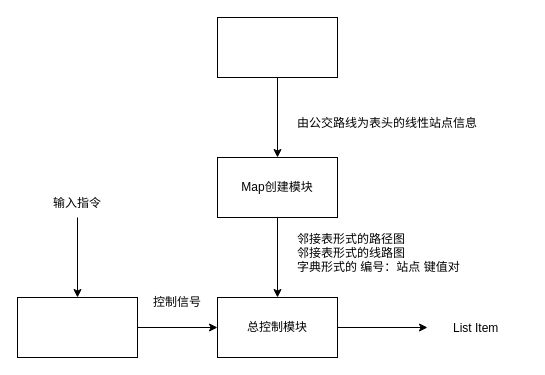
Image size: 545x375. Some labels were removed from this diagram. Each missing label, with the centre of its shape:
Excel读入模块: (x=277, y=47)
输入控制模块: (x=77, y=327)
